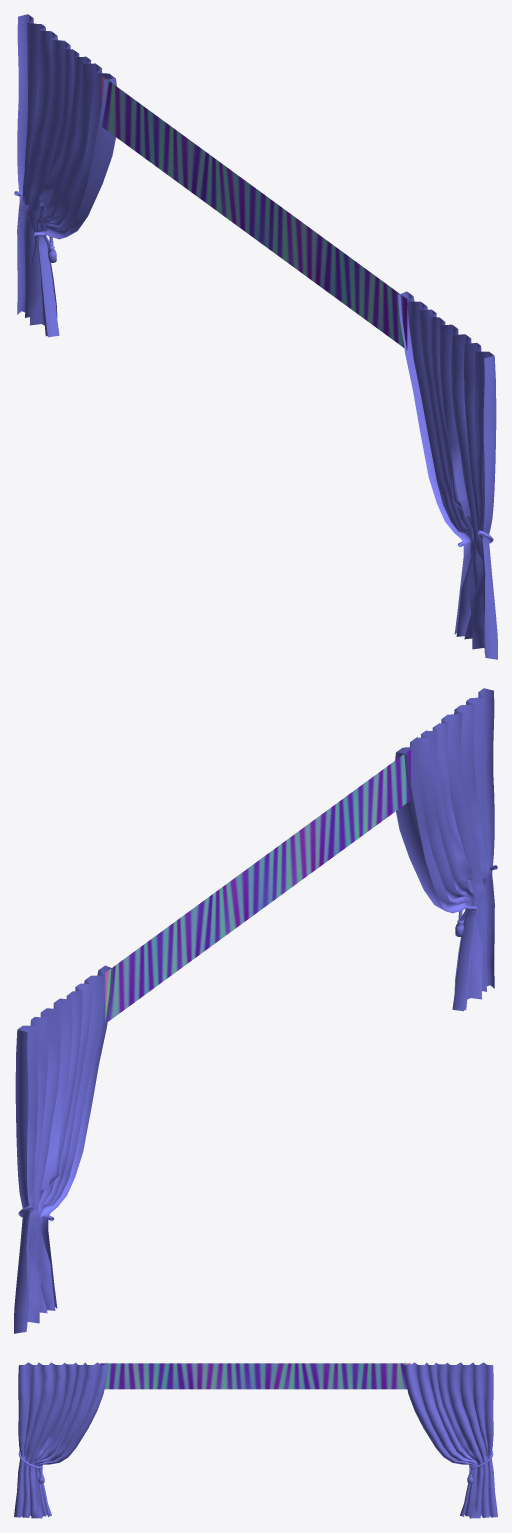
The model's file is mesh_chuanglian.FBX.
The picture shows the model from 3 angles, top to bottom: view 1: azimuth 30°, elevation 25°; view 2: azimuth 150°, elevation 25°; view 3: azimuth 270°, elevation 25°; orthographic projection. The views are drawn at different scales.
Visible parts, largest first — view 1: chuanglian; view 2: chuanglian; view 3: chuanglian.
Part boxes in pixels (bbox=[...]): chuanglian: bbox=[14, 14, 497, 659]; chuanglian: bbox=[14, 688, 497, 1333]; chuanglian: bbox=[14, 1362, 497, 1518].
Bounding box in the file's own units: 11.16 × 141 × 404.
1 material, 1 textured.
